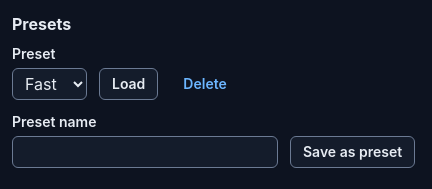
Scenario: Presets › loads the selected preset with no request and takes its name
Type "typed" into the field labelled "Preset name" at (145, 152), box [12,136,278,168]
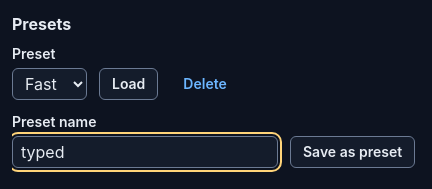
Select "Slow" in the dropdown labelled "Preset" at (50, 84), box [12,68,87,100]
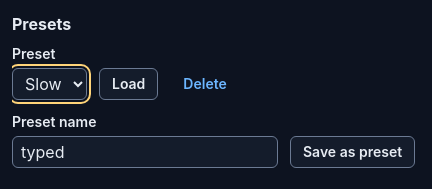
Click the button "Load" at (129, 84), box [99,68,158,100]
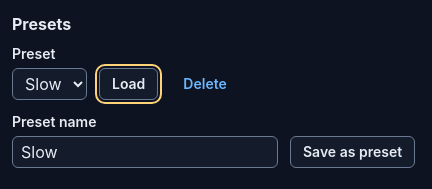
Expected: the field labelled "Preset name" holds "Slow", [12,136,278,168]
